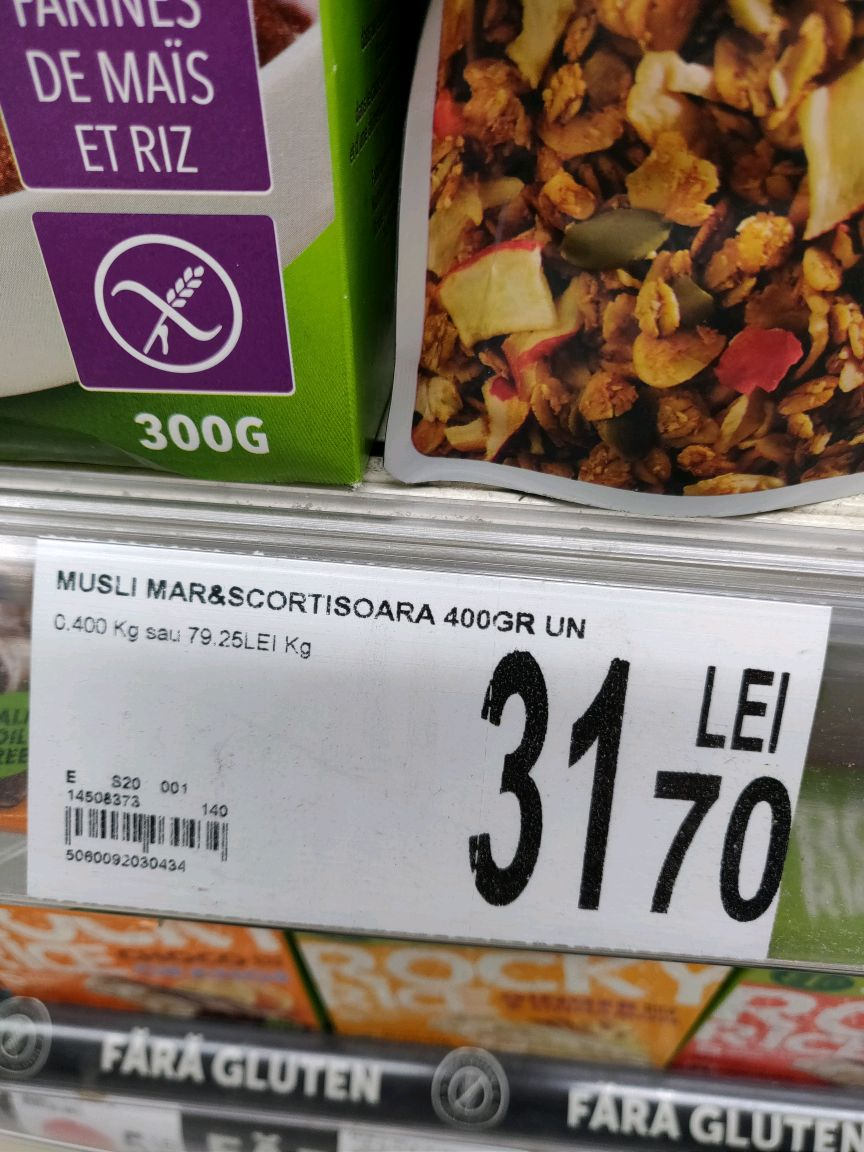price_bani: (639, 757, 813, 930)
price_lei: (437, 643, 648, 922)
price_tag: (20, 529, 836, 985)
product_id: (52, 845, 199, 880)
product_name: (45, 561, 589, 644)
